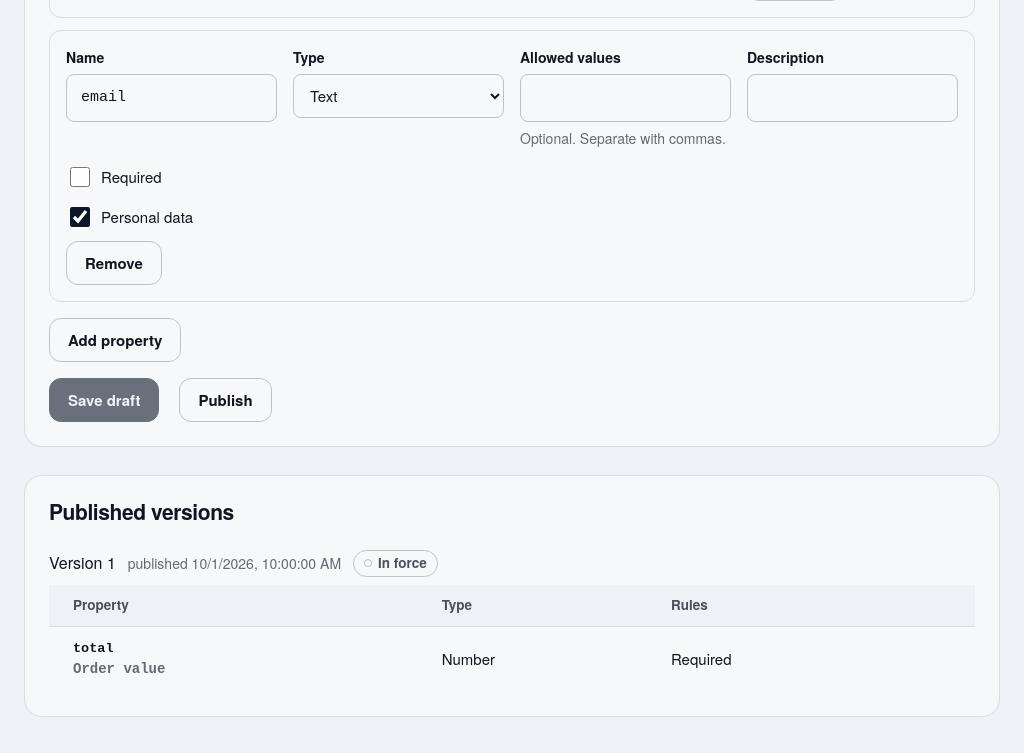
event schema › asks before publishing, returns focus on Escape, and publishes on confirmation
(page scrolled)
Click the button "Publish": (226, 400) [179,378,272,422]
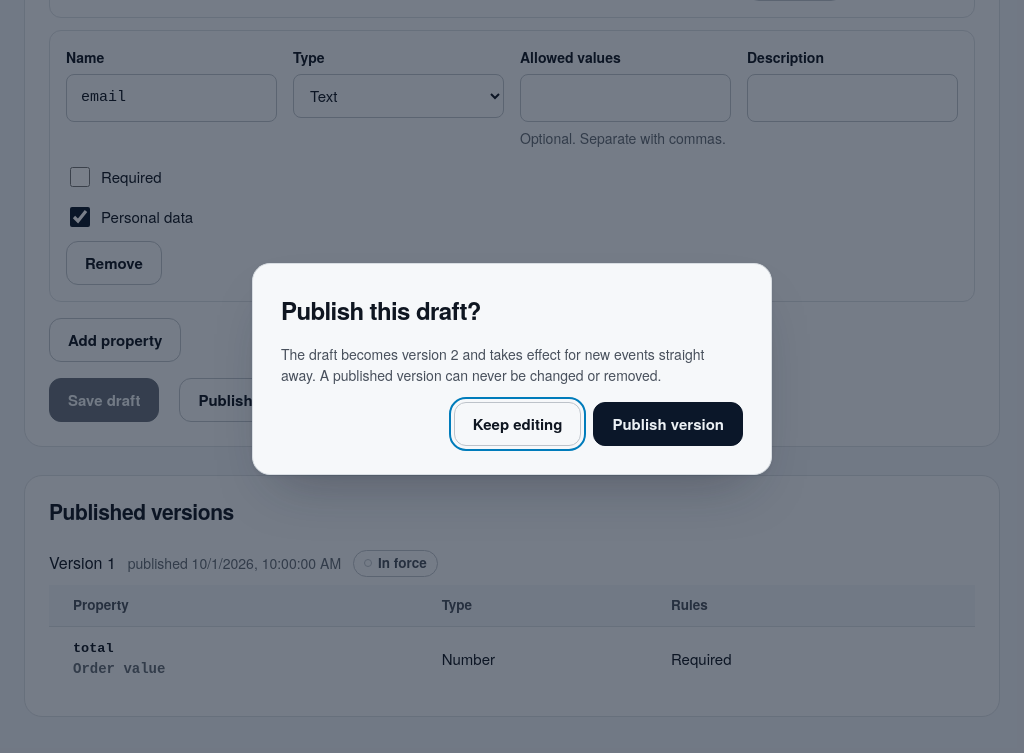
Expected: the text "can never be changed or removed" is shown, [281,344,704,385]
Press Escape
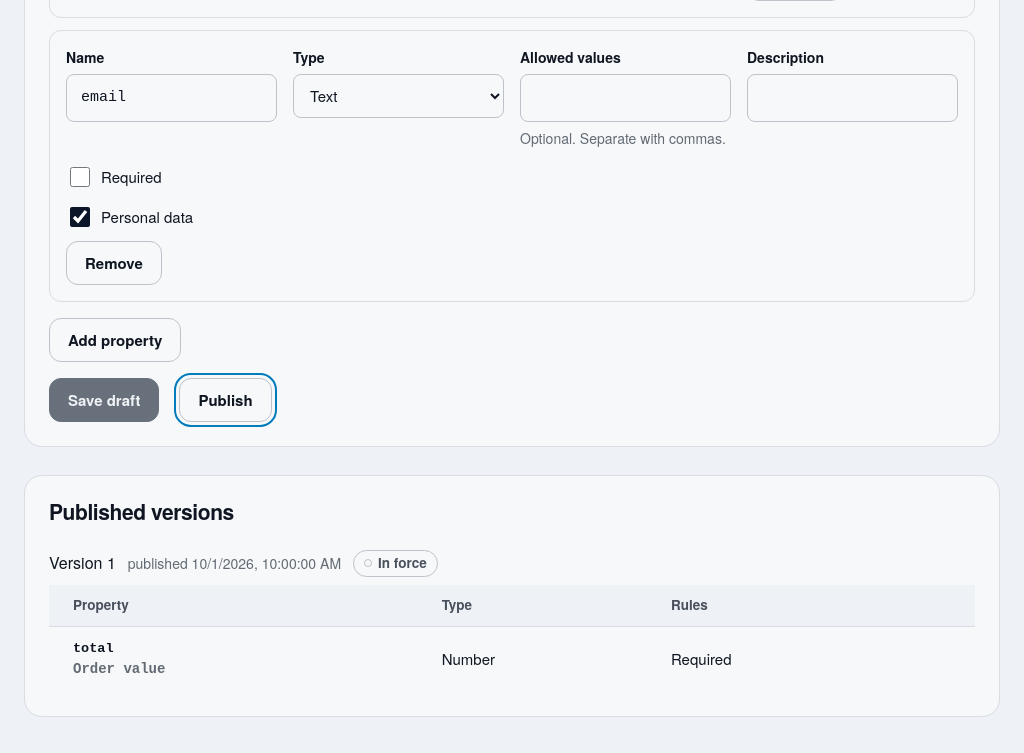
Expected: the dialog is gone
Click the button "Publish": (226, 400) [179,378,272,422]
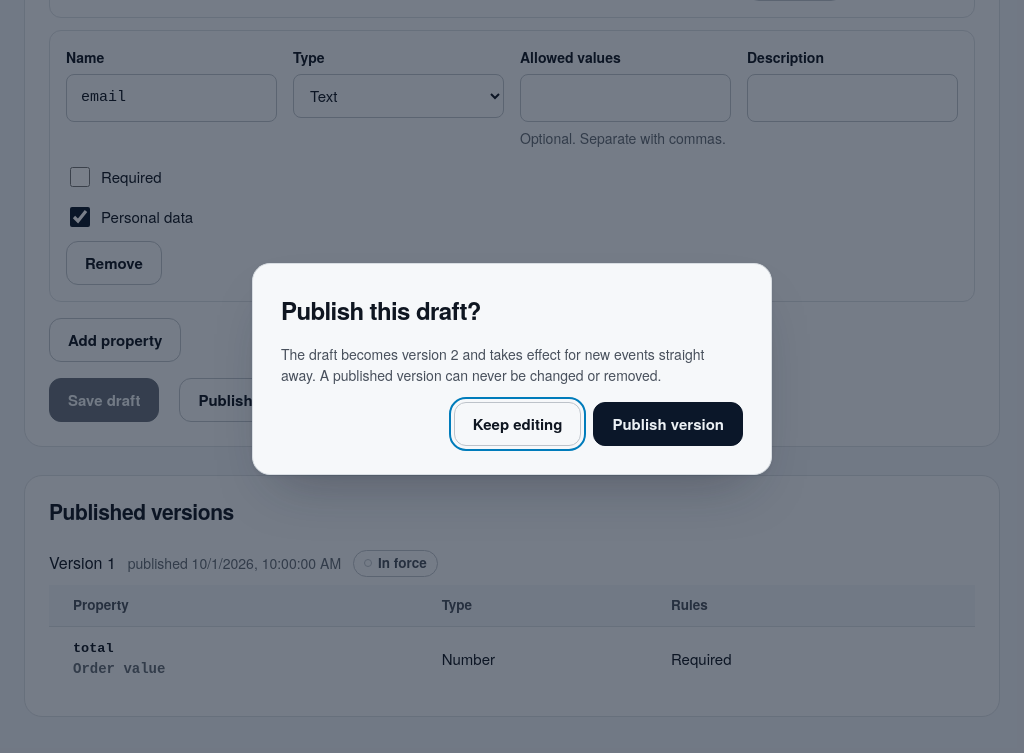
Click the button "Publish version": (668, 424) [593,402,743,446]
(page scrolled)
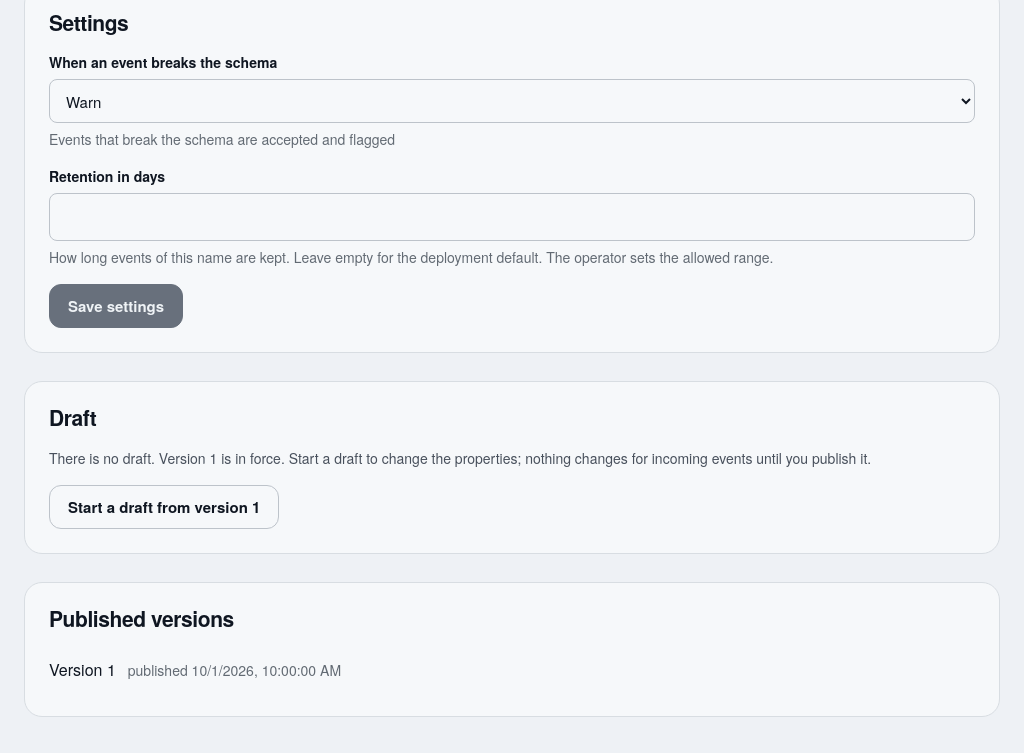
Expected: the text "There is no draft" is shown, [49,448,155,468]
